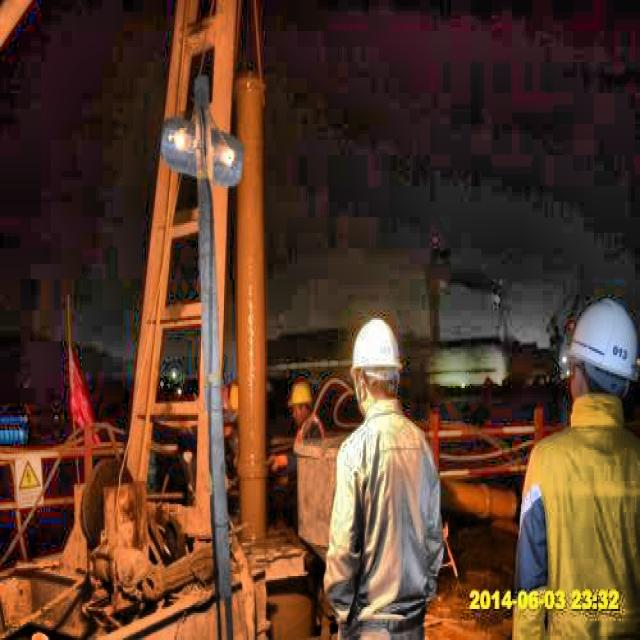helmet: (565, 297, 636, 409), (352, 310, 403, 413), (284, 378, 318, 429)
